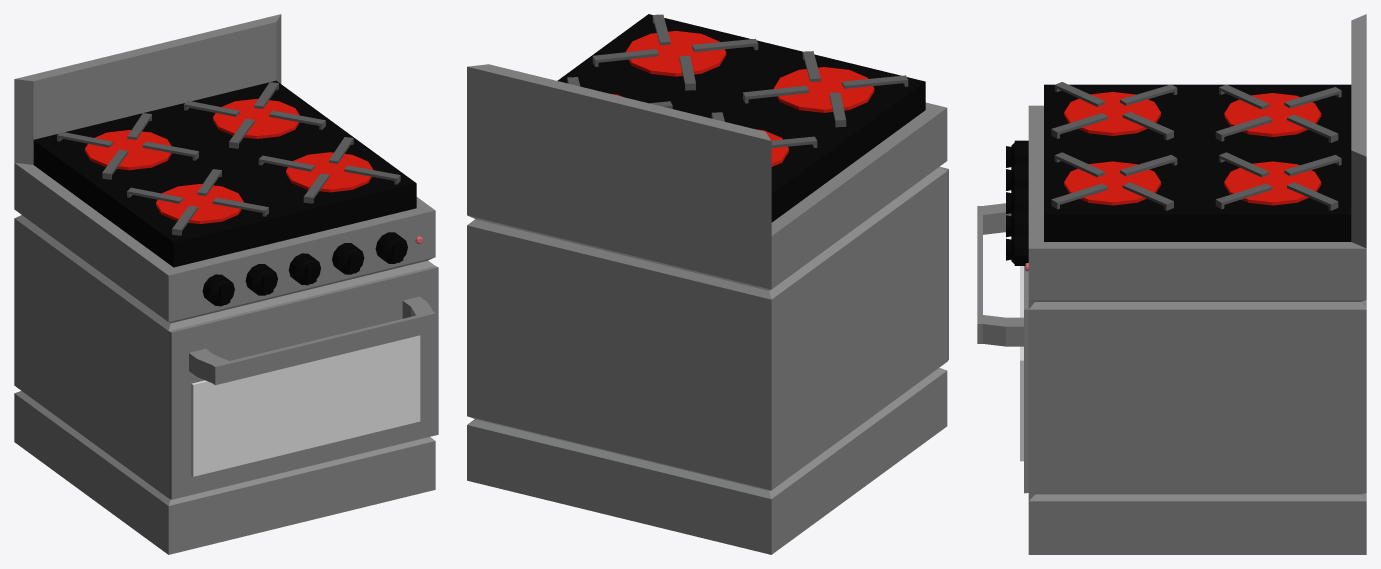
File: Stove5.fbx
3 views of the same model, side by side, from view 1: azimuth 30°, elevation 25°; view 2: azimuth 150°, elevation 25°; view 3: azimuth 270°, elevation 25° (orthographic). The views are drawn at different scales.
Parts seen in each view (by area): view 1: Stove; view 2: Stove; view 3: Stove.
Boxes of the visible parts, box(x1,y1,x2,y2) form: Stove: box(14, 14, 438, 554); Stove: box(467, 14, 948, 554); Stove: box(977, 14, 1366, 554).
Bounding box in the file's own units: 131 × 170 × 151.
